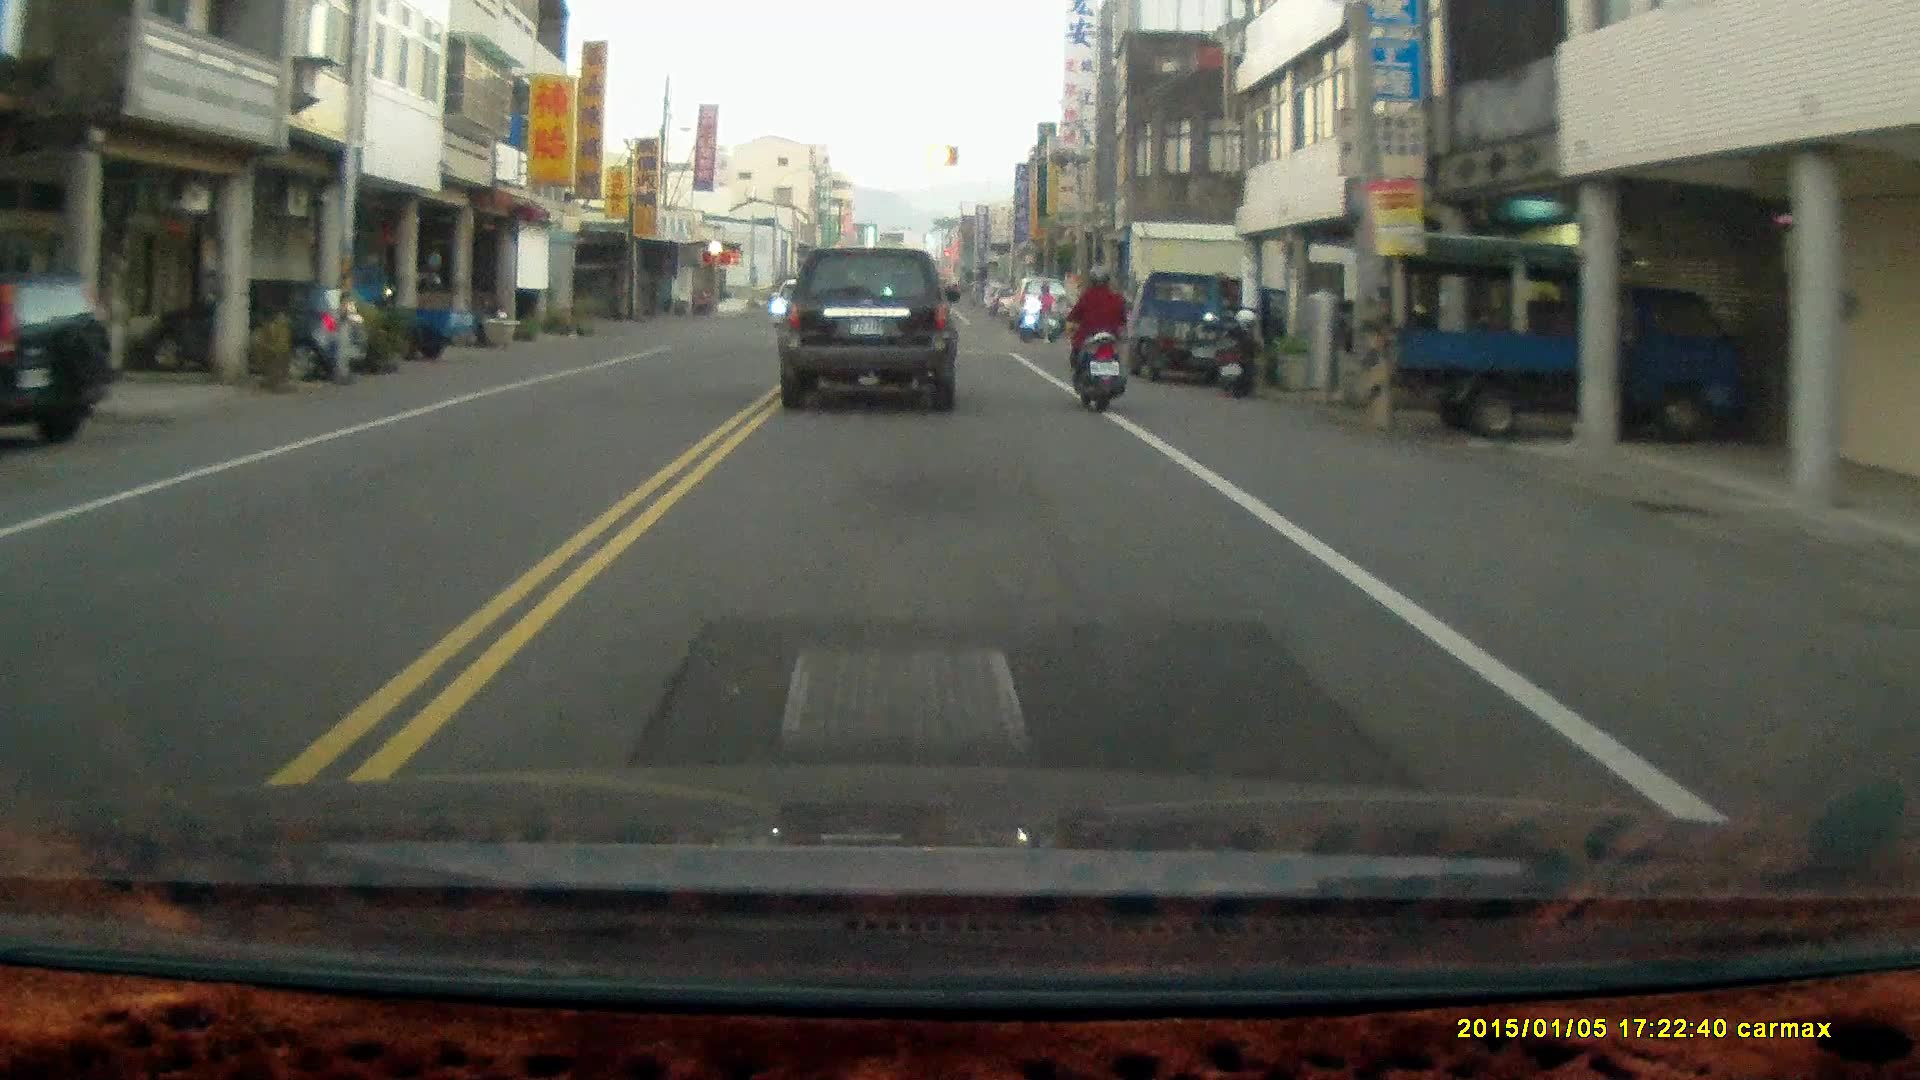rider: (1070, 263, 1126, 413), (1014, 285, 1057, 345)
vehicle: (1374, 237, 1743, 442), (779, 251, 960, 419), (136, 277, 369, 380), (1, 276, 122, 462), (1121, 269, 1265, 388)
